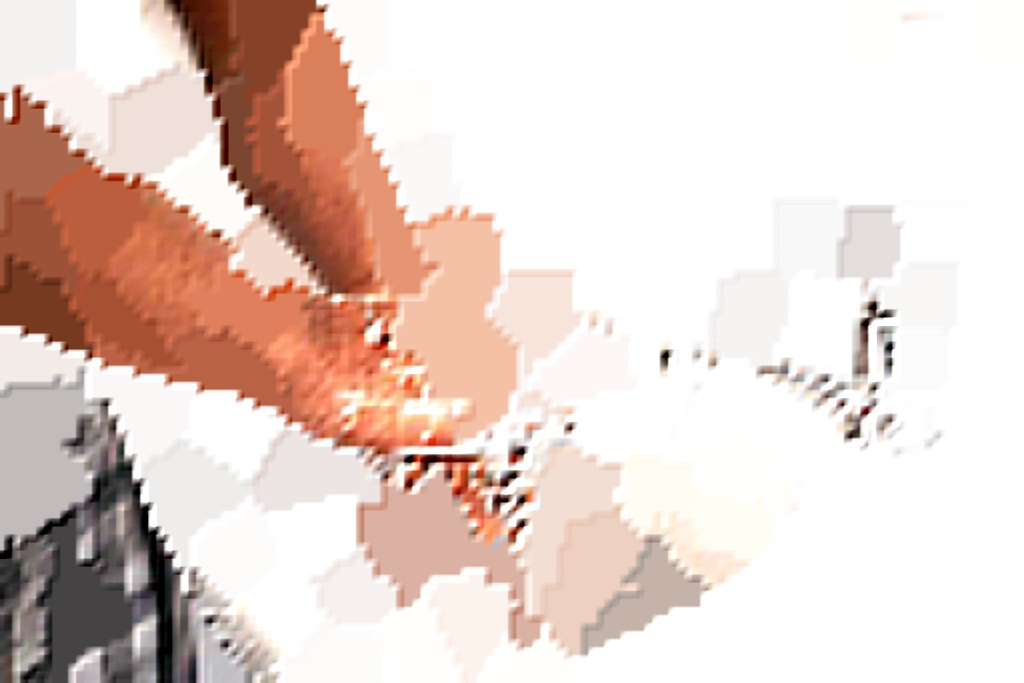washing hand: (249, 81, 992, 682)
